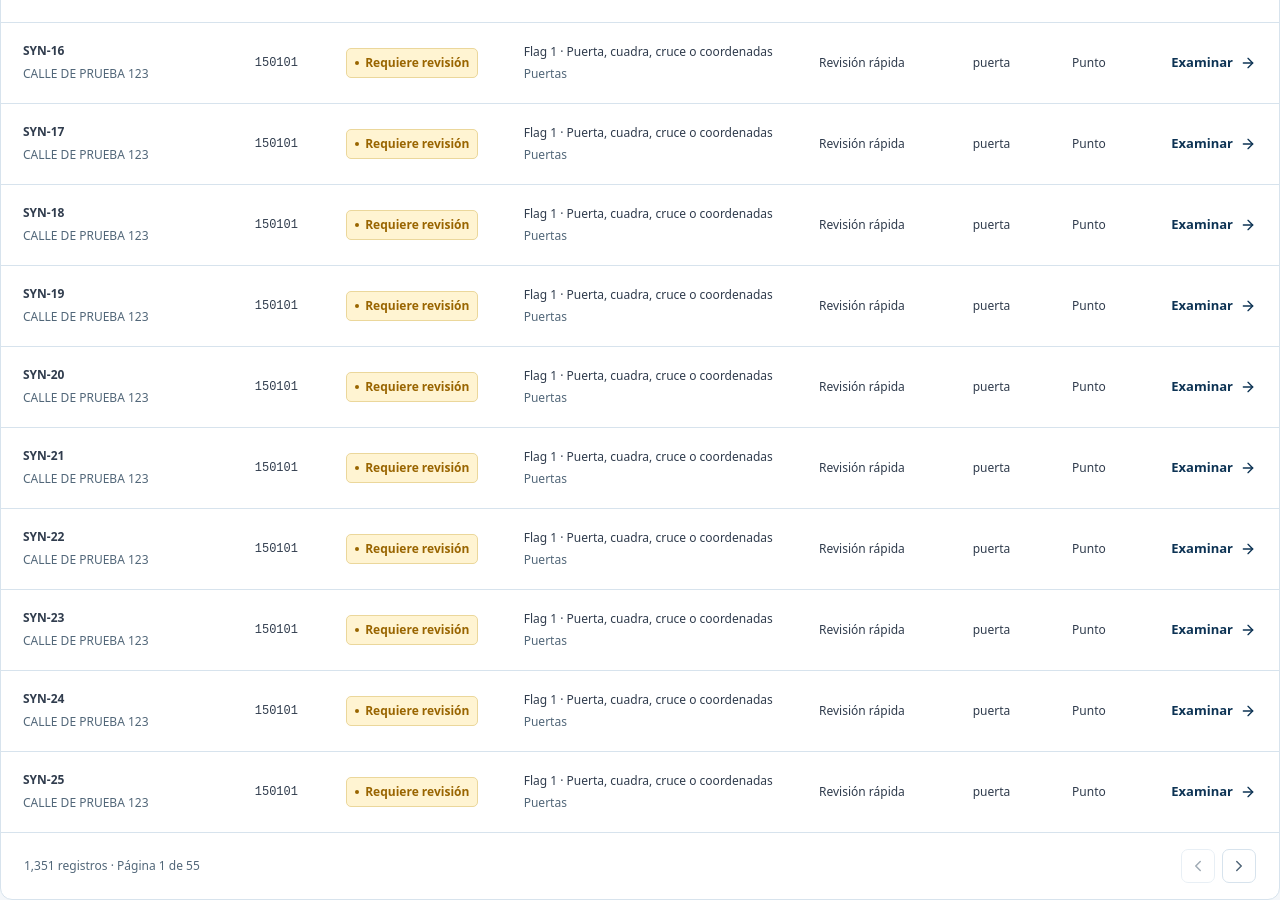
Test: visible result totals › uses submitted search and resolution totals and resets to the first page without counting draft text
(page scrolled)
Click the button named "Página siguiente" at point(1239, 866), box [1222,848,1256,882]
(page scrolled)
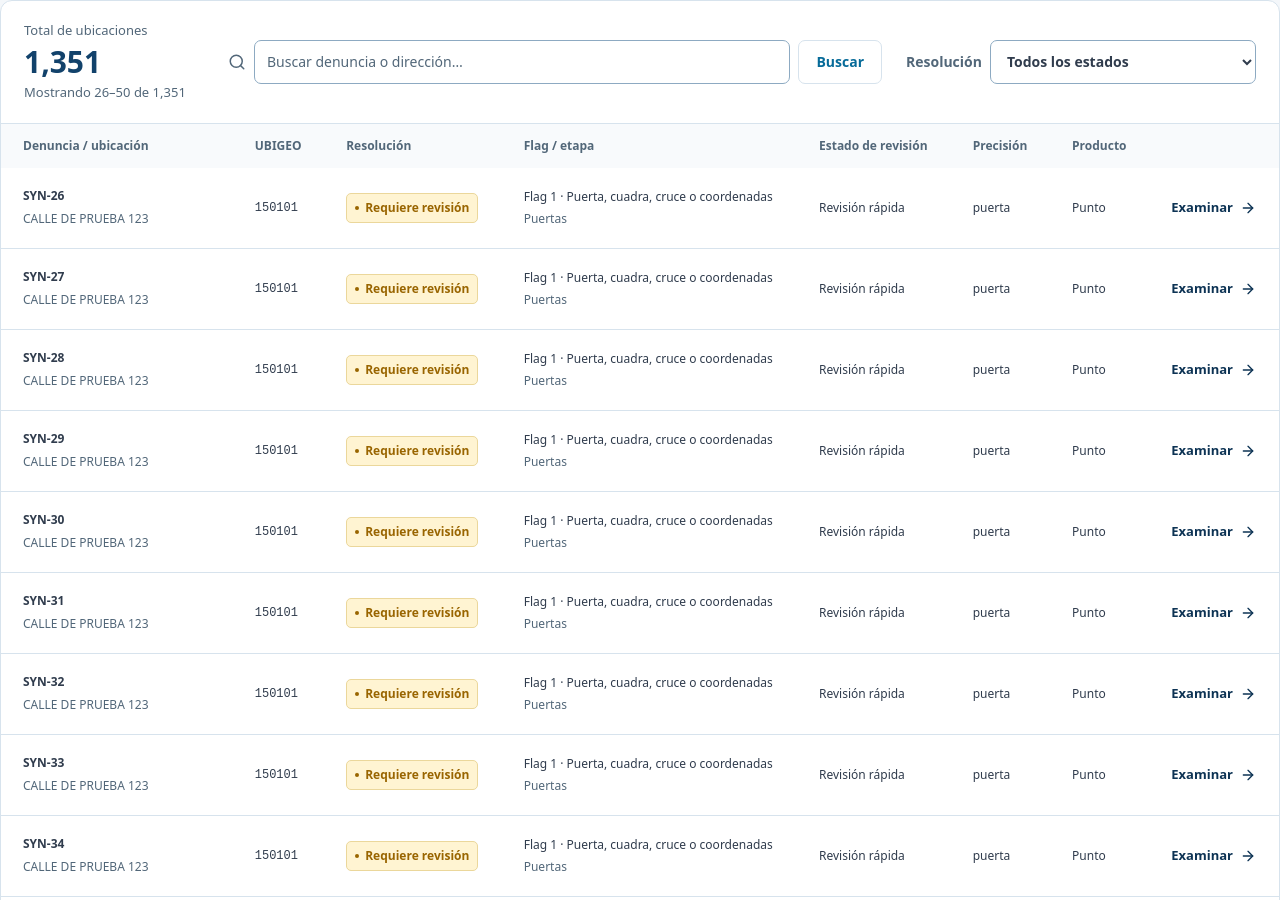
Check: the message named "Total de resultados" shows "Mostrando 26–50", box [24,83,186,101]
Type "PRUEBA" into the field labelled "Buscar denuncia o dirección" at point(522, 62), box [254,40,790,84]
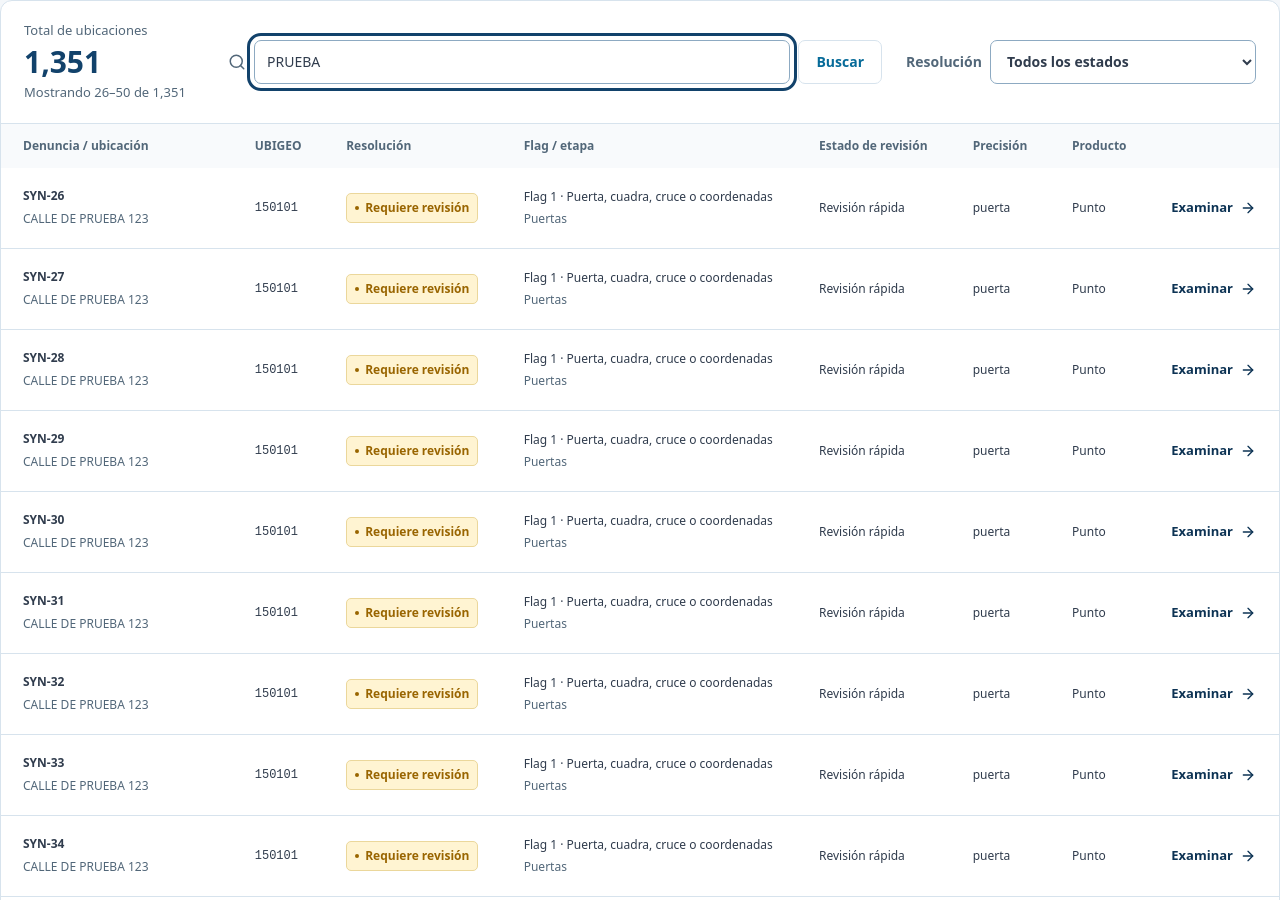
Check: the message named "Total de resultados" shows "Total de ubicaciones", box [24,21,148,39]
Check: the message named "Total de resultados" shows "1,351", box [24,40,101,82]
Click the button "Buscar" at point(840, 62), box [798,40,882,84]
(page scrolled)
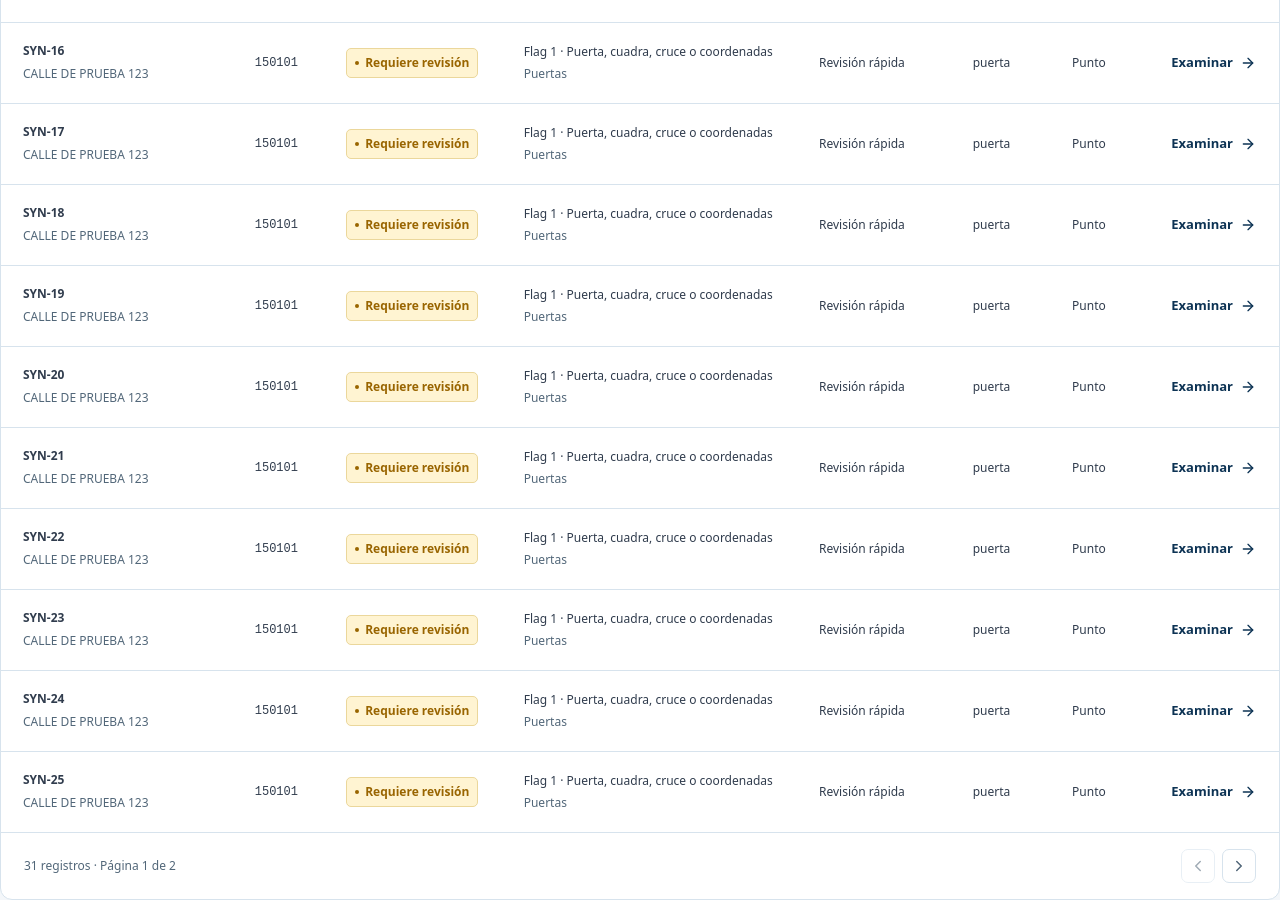
Click the button named "Página siguiente" at point(1239, 866), box [1222,848,1256,882]
(page scrolled)
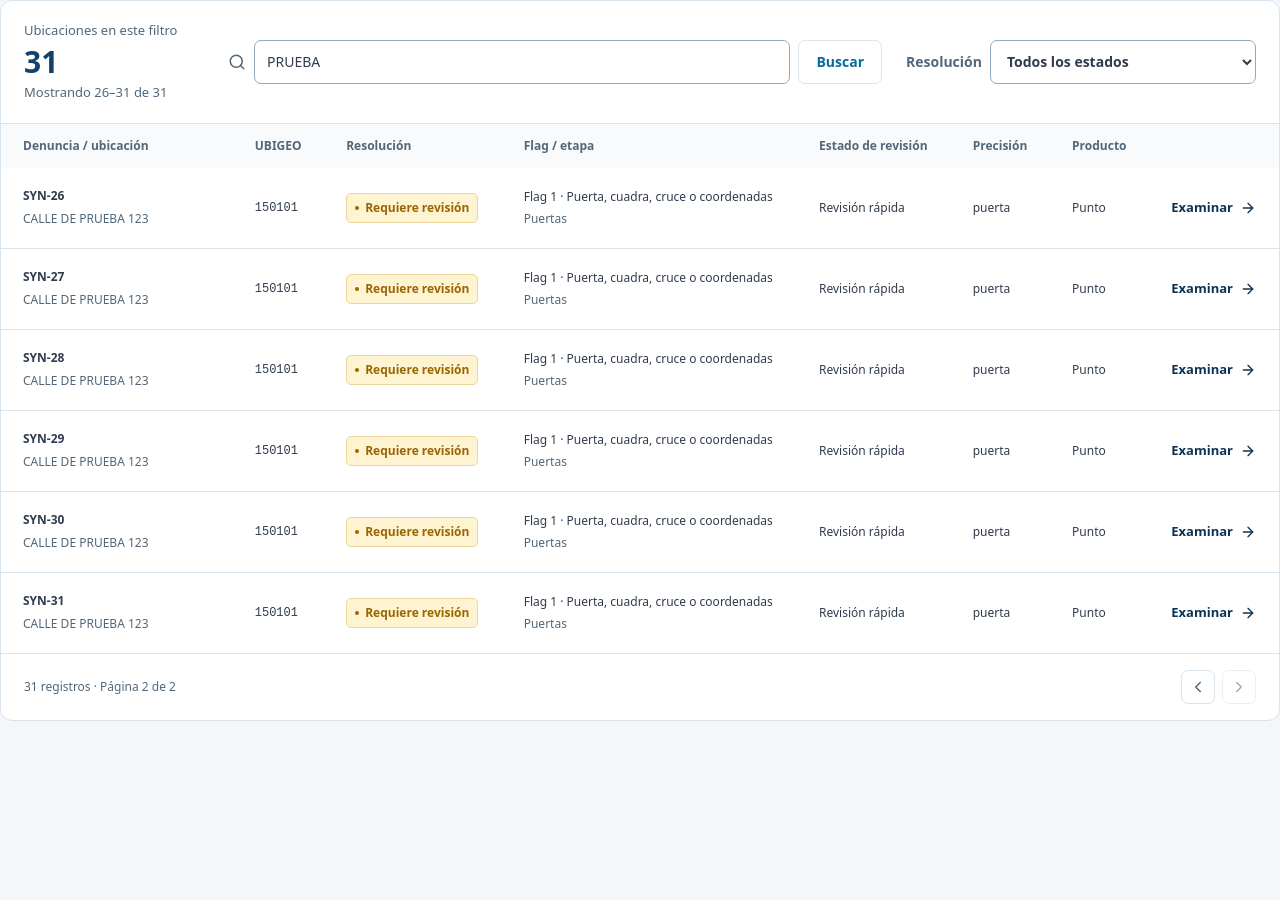
Check: the message named "Total de resultados" shows "Mostrando 26–31 de 31", box [24,83,168,101]
Select "Aceptado automáticamente" in the dropdown labelled "Resolución" at point(1123, 62), box [990,40,1256,84]
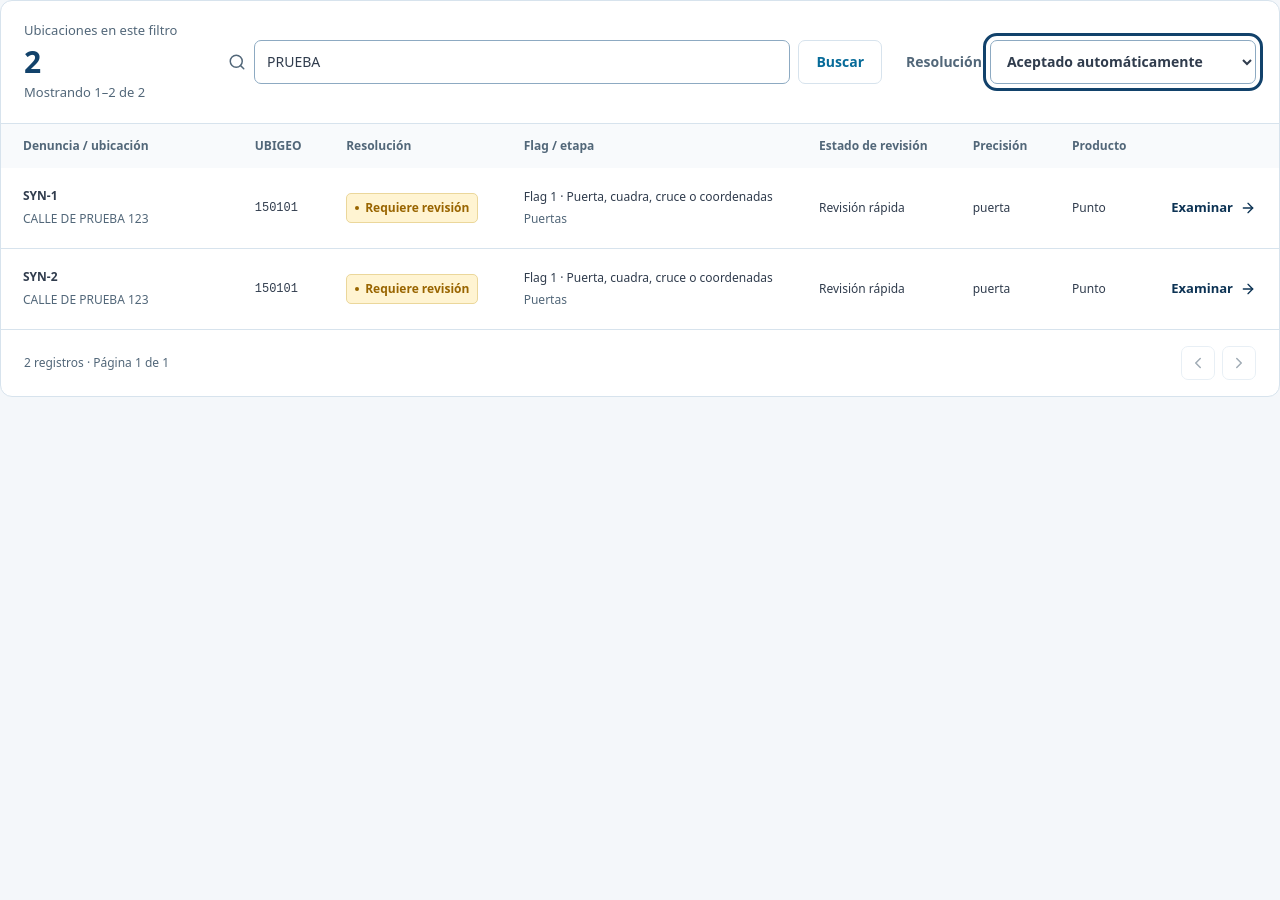
Check: the message named "Total de resultados" shows "Mostrando 1–2 de 2", box [24,83,145,101]
